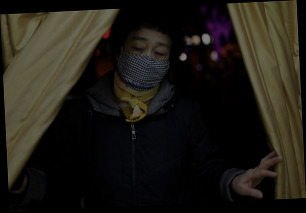with_mask: (117, 34, 172, 90)
